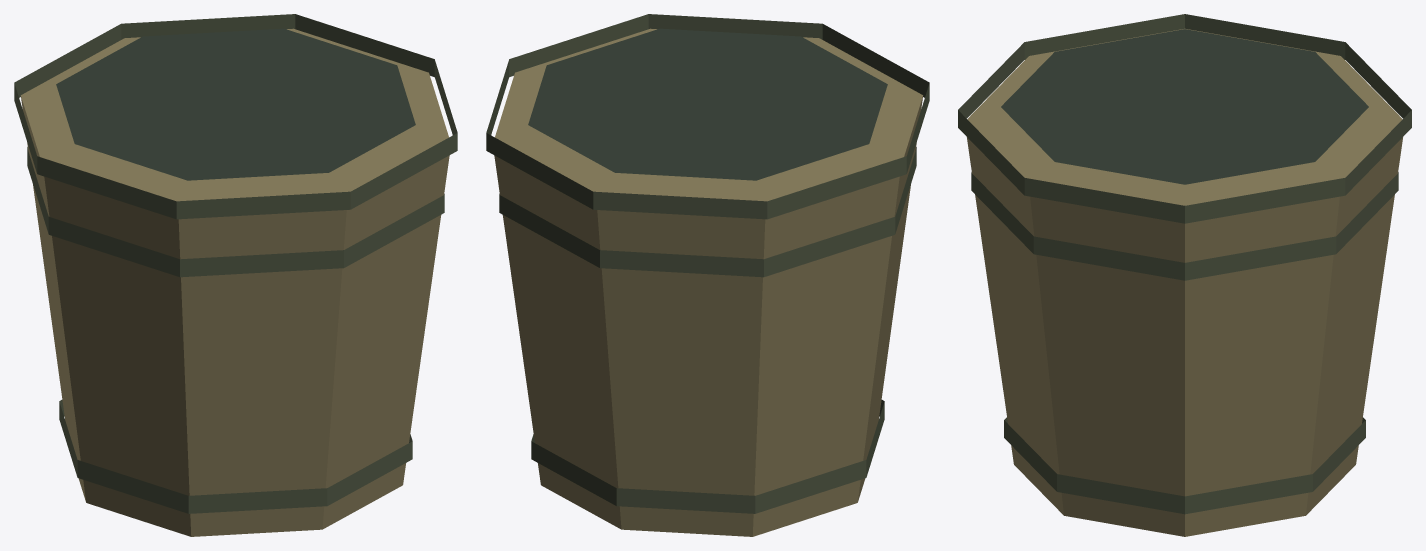
The model's file is basket.glb.
The picture shows the model from 3 angles, left to right: view 1: azimuth 30°, elevation 25°; view 2: azimuth 150°, elevation 25°; view 3: azimuth 270°, elevation 25°; orthographic projection.
Parts seen in each view (by area): view 1: basket; view 2: basket; view 3: basket.
Boxes of the visible parts, x1,y1,x2,y2 form: basket: (14,14,457,536); basket: (486,14,929,536); basket: (958,14,1411,536).
Bounding box in the file's own units: 1.38 × 1.2 × 1.38.
